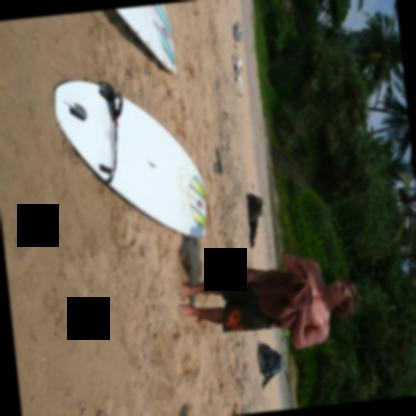backpack: (256, 341, 285, 393), (245, 191, 261, 248)
